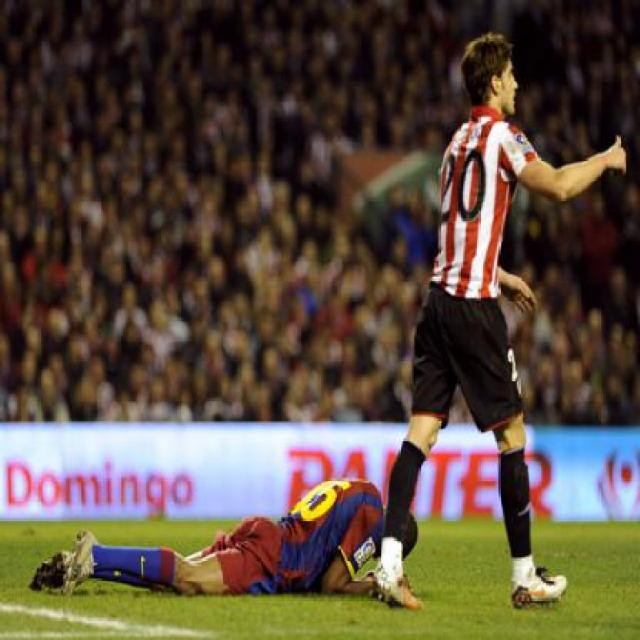fall: (35, 448, 410, 607)
